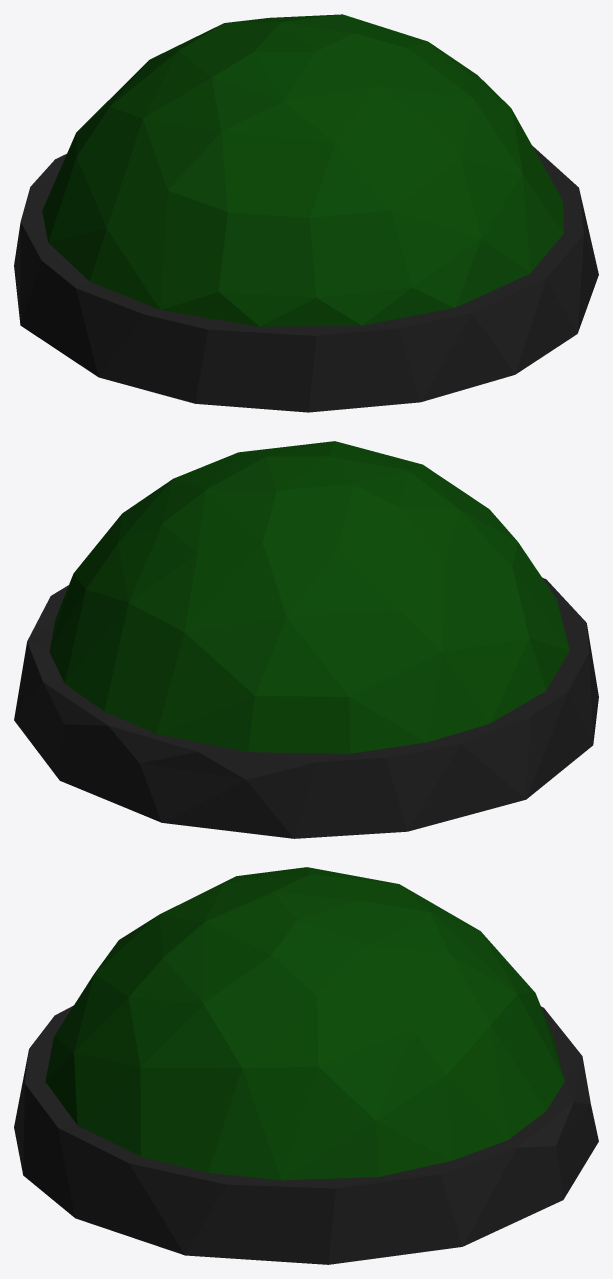
Rendered from Light Off Green.fbx.
3 views of the same model, one above another, from view 1: azimuth 30°, elevation 25°; view 2: azimuth 150°, elevation 25°; view 3: azimuth 270°, elevation 25° (orthographic).
Parts seen in each view (by area): view 1: Sphere.001; view 2: Sphere.001; view 3: Sphere.001.
Part boxes in pixels (<box>): Sphere.001: <box>14,14,598,412</box>; Sphere.001: <box>14,441,598,838</box>; Sphere.001: <box>14,867,598,1264</box>.
Bounding box in the file's own units: 214 × 101 × 216.
